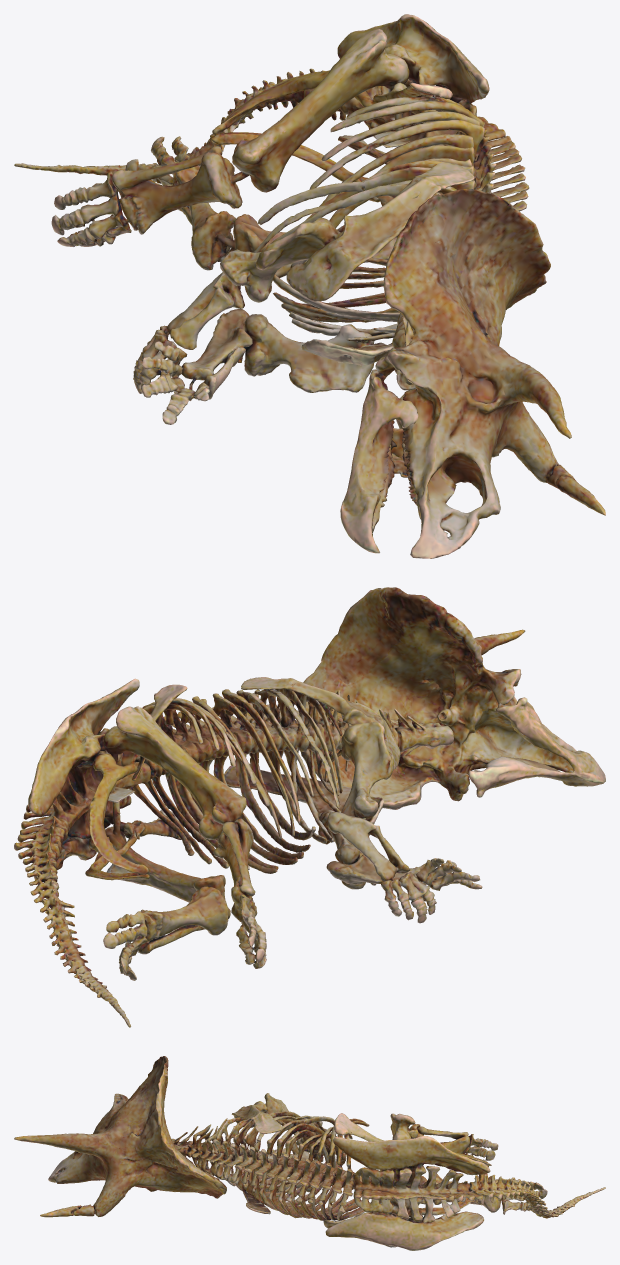
File: tricera.gltf
The picture shows the model from 3 angles, top to bottom: view 1: azimuth 30°, elevation 25°; view 2: azimuth 150°, elevation 25°; view 3: azimuth 270°, elevation 25°; orthographic projection. The views are drawn at different scales.
Bounding box in the file's own units: 2.8 × 1.66 × 5.89.
Materials: 1 (1 with a texture image).
